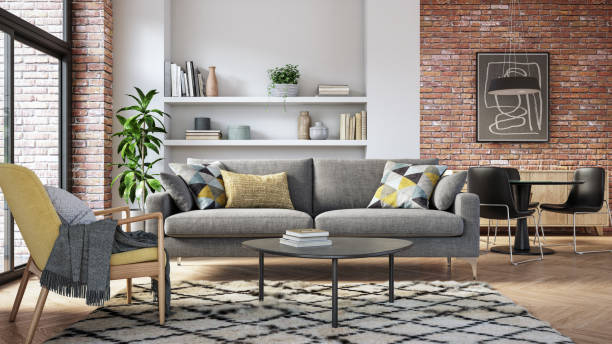chair: (0, 162, 169, 344)
dining table set: (469, 163, 611, 263)
large plant: (112, 87, 167, 232)
small plant: (264, 62, 301, 97)
sofa: (140, 157, 481, 279)
table: (240, 231, 415, 328)
wall art: (475, 50, 552, 142)
